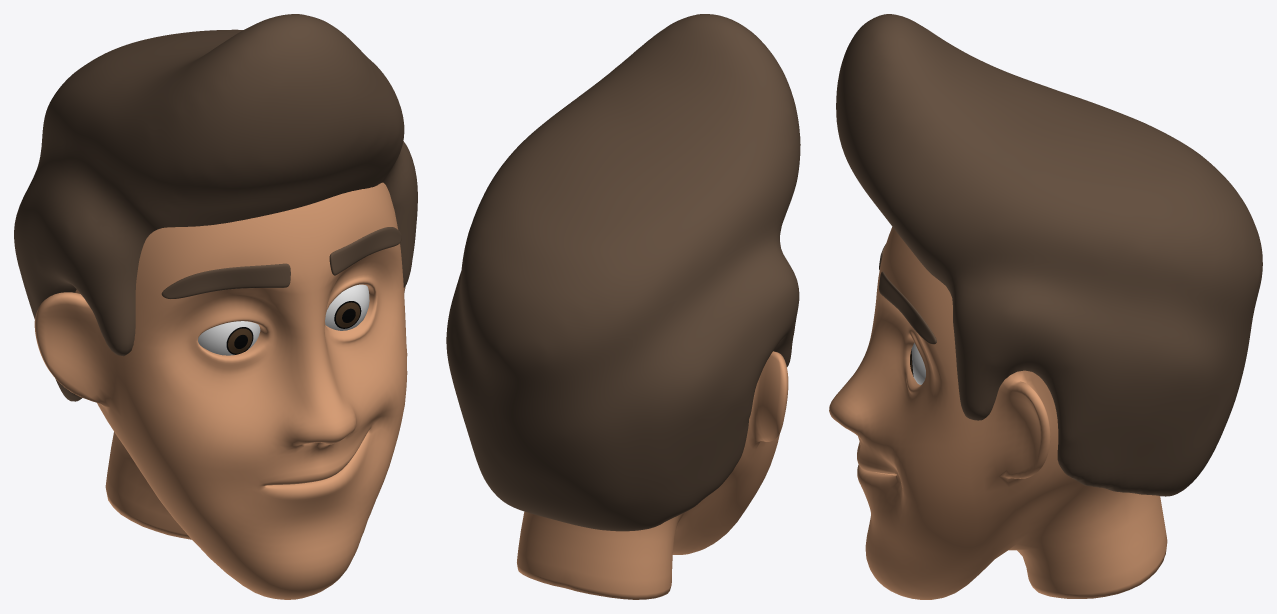
The model's file is Alfred.fbx.
The picture shows the model from 3 angles, left to right: view 1: azimuth 30°, elevation 25°; view 2: azimuth 150°, elevation 25°; view 3: azimuth 270°, elevation 25°; orthographic projection. The views are drawn at different scales.
Parts seen in each view (by area): view 1: Face, Eye.R, Eye.L; view 2: Face; view 3: Face.
Boxes of the visible parts, bbox=[...] form: Face: bbox=[14, 14, 417, 599]; Eye.R: bbox=[198, 321, 260, 355]; Eye.L: bbox=[325, 284, 369, 330]; Face: bbox=[446, 14, 800, 599]; Face: bbox=[829, 14, 1262, 599].
Size of the model in its own units: 98.99 by 150 by 104.
